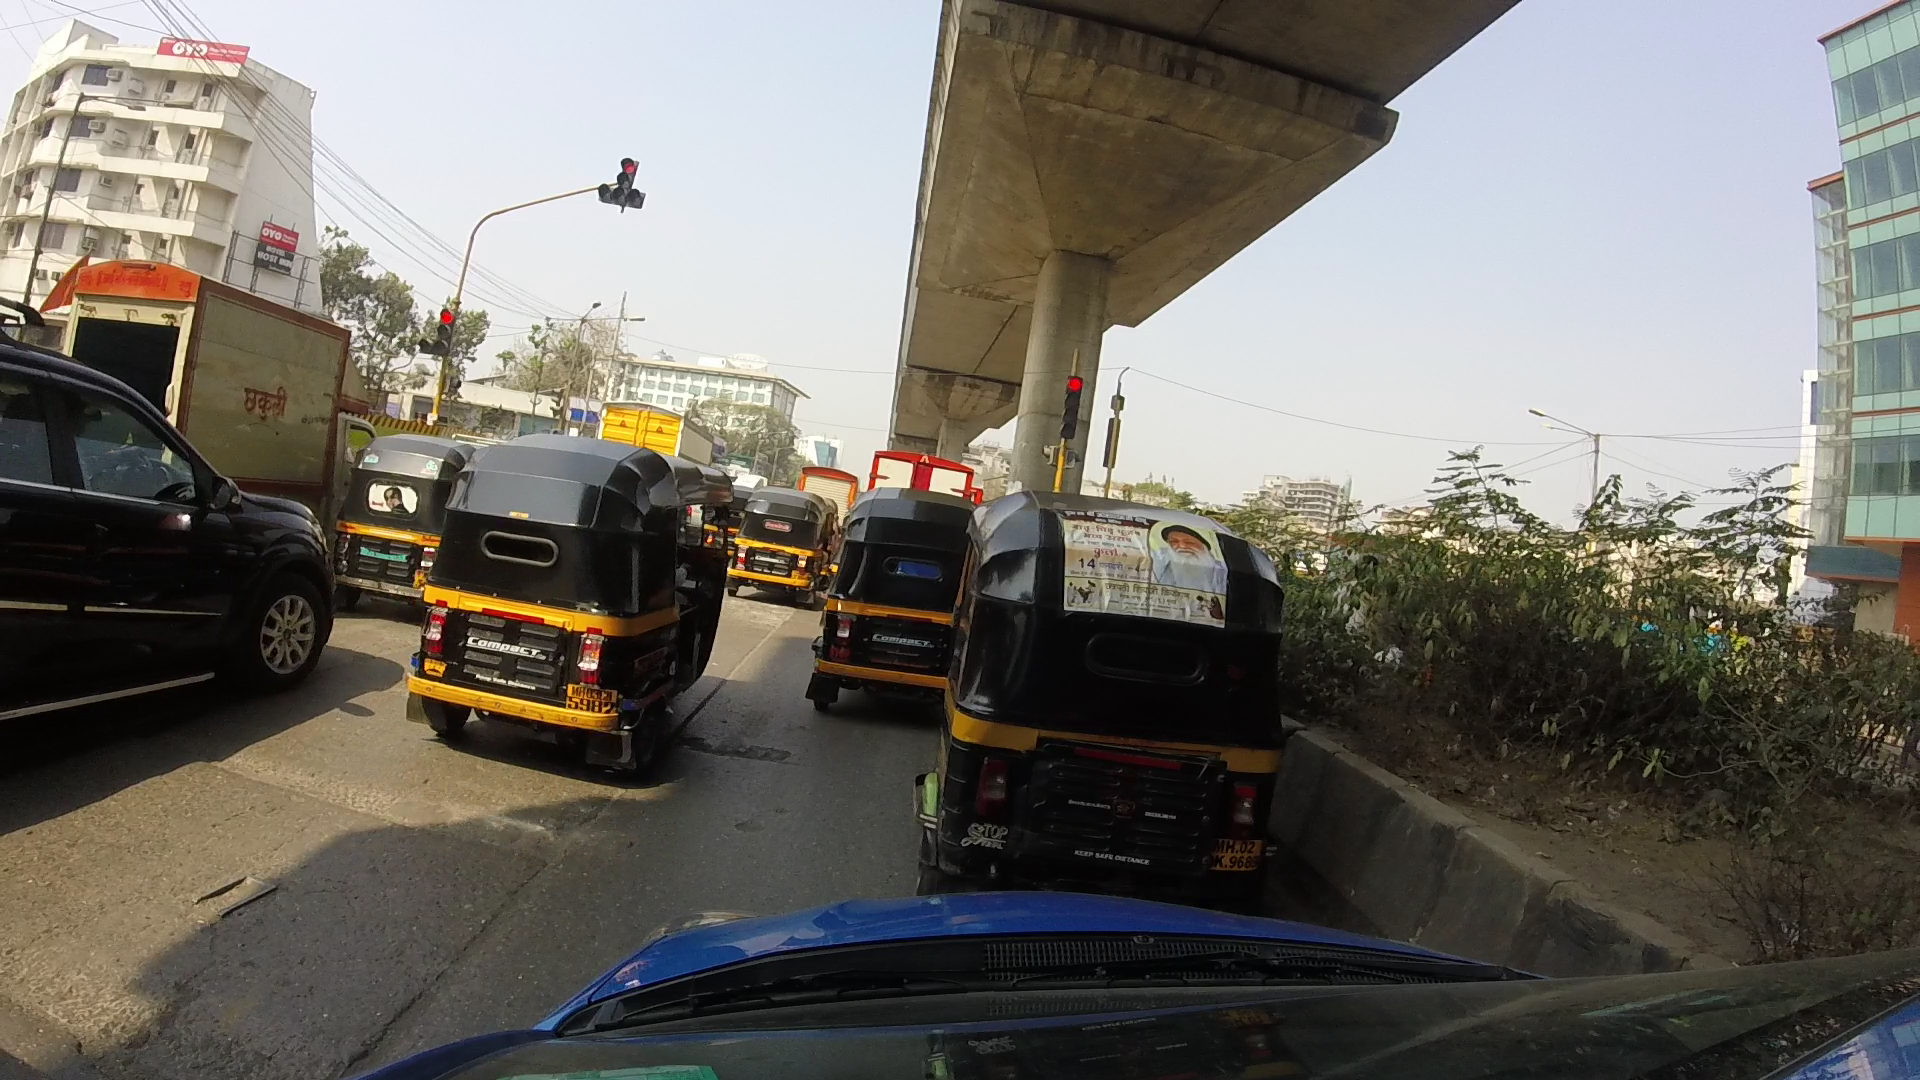car: (1, 331, 339, 737)
rickshaw: (927, 477, 1331, 878), (415, 444, 688, 775), (812, 495, 965, 731), (353, 404, 454, 597), (738, 458, 822, 607)
truck: (47, 245, 363, 510)
